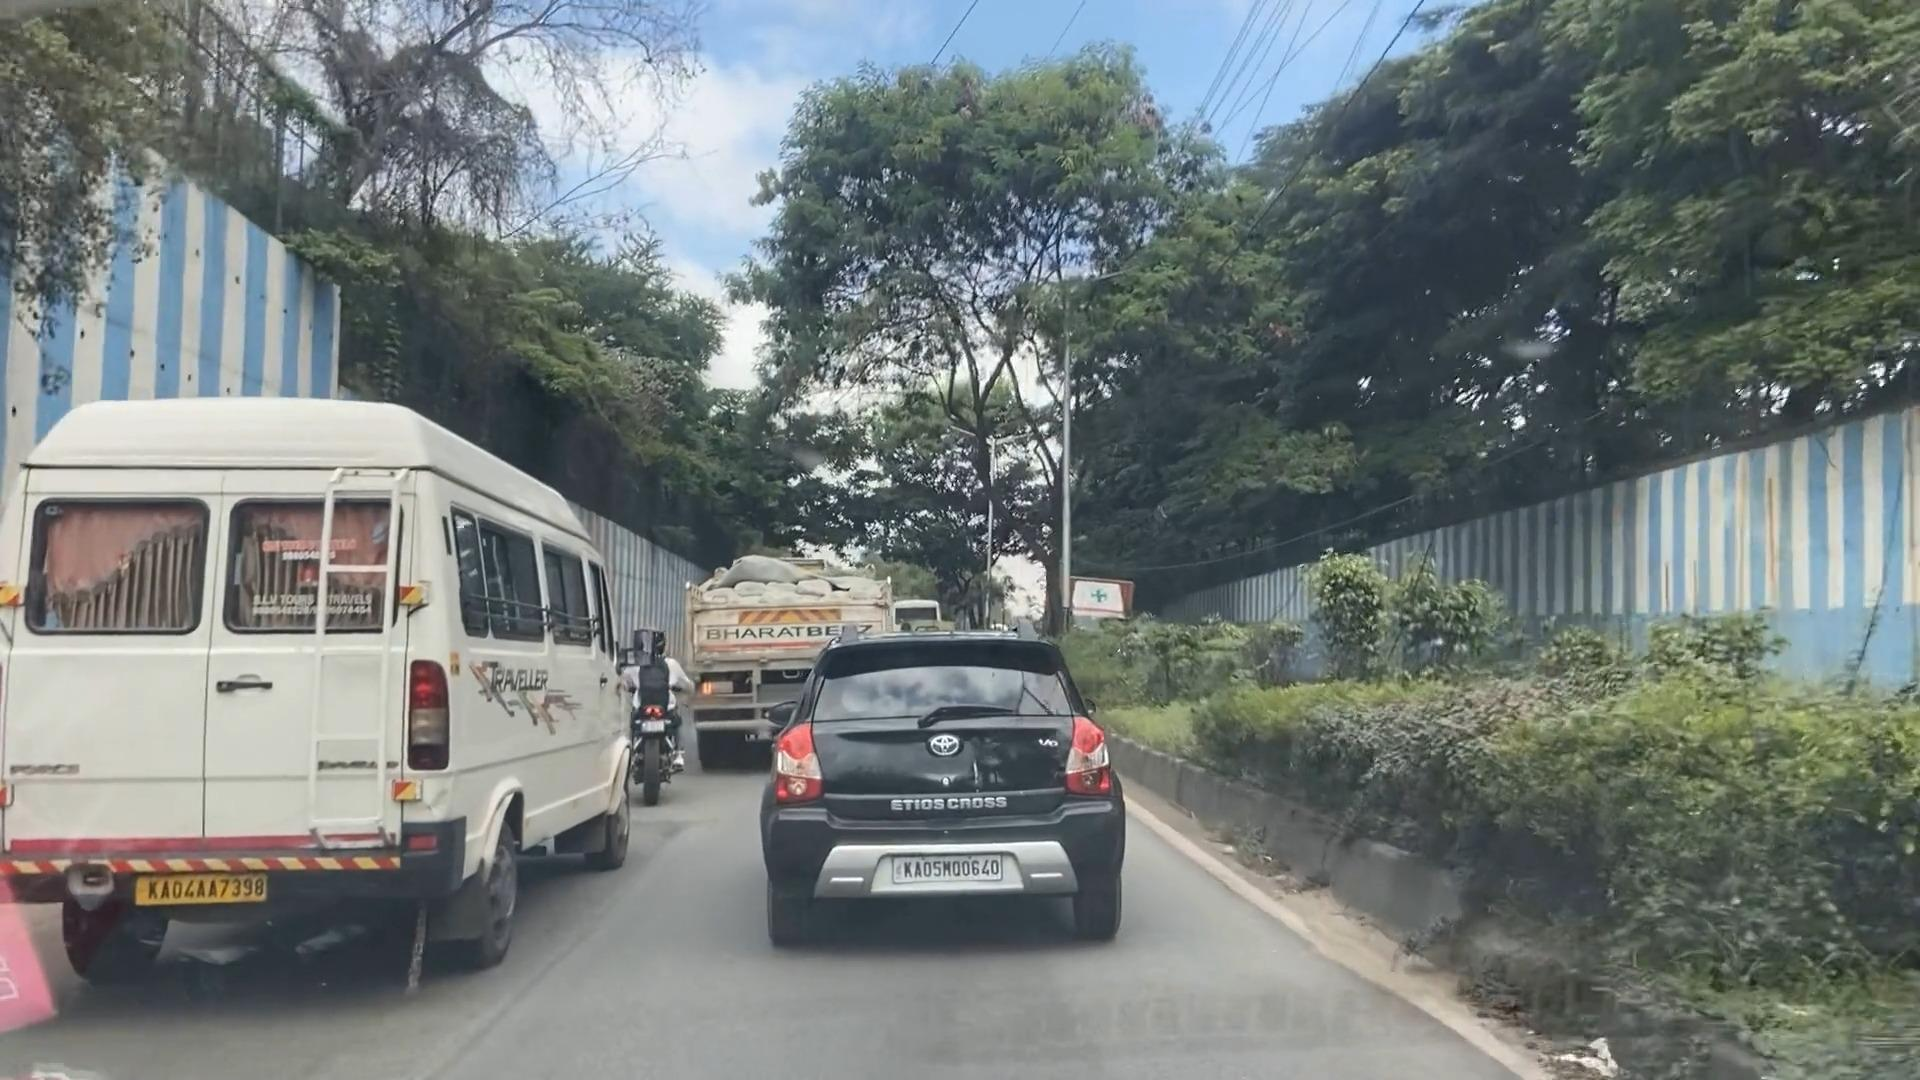HMV: (0, 404, 654, 1009)
LMV: (741, 611, 1164, 994), (626, 618, 713, 827)
